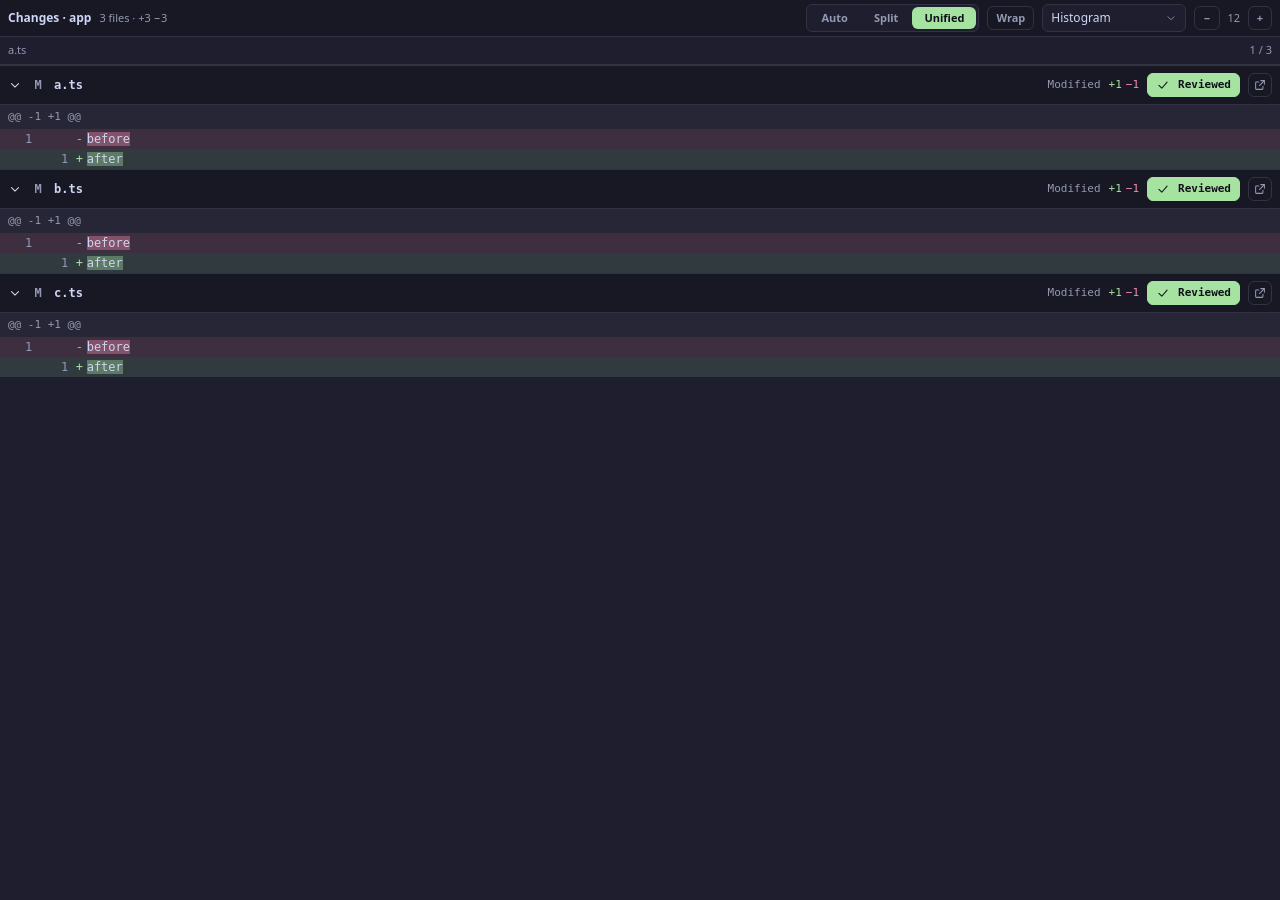
Test: Undo covers every write still inside its window › stops at the first conflict, leaves the older write alone and says how far it got
The width and height of the screenshot is (1280, 900).
Check: the list with test id "review-list" is shown, box [0,65,1279,377]
Click the 1st button with test id "review-file-reviewed" at (1194, 85), box [1147,73,1240,97]
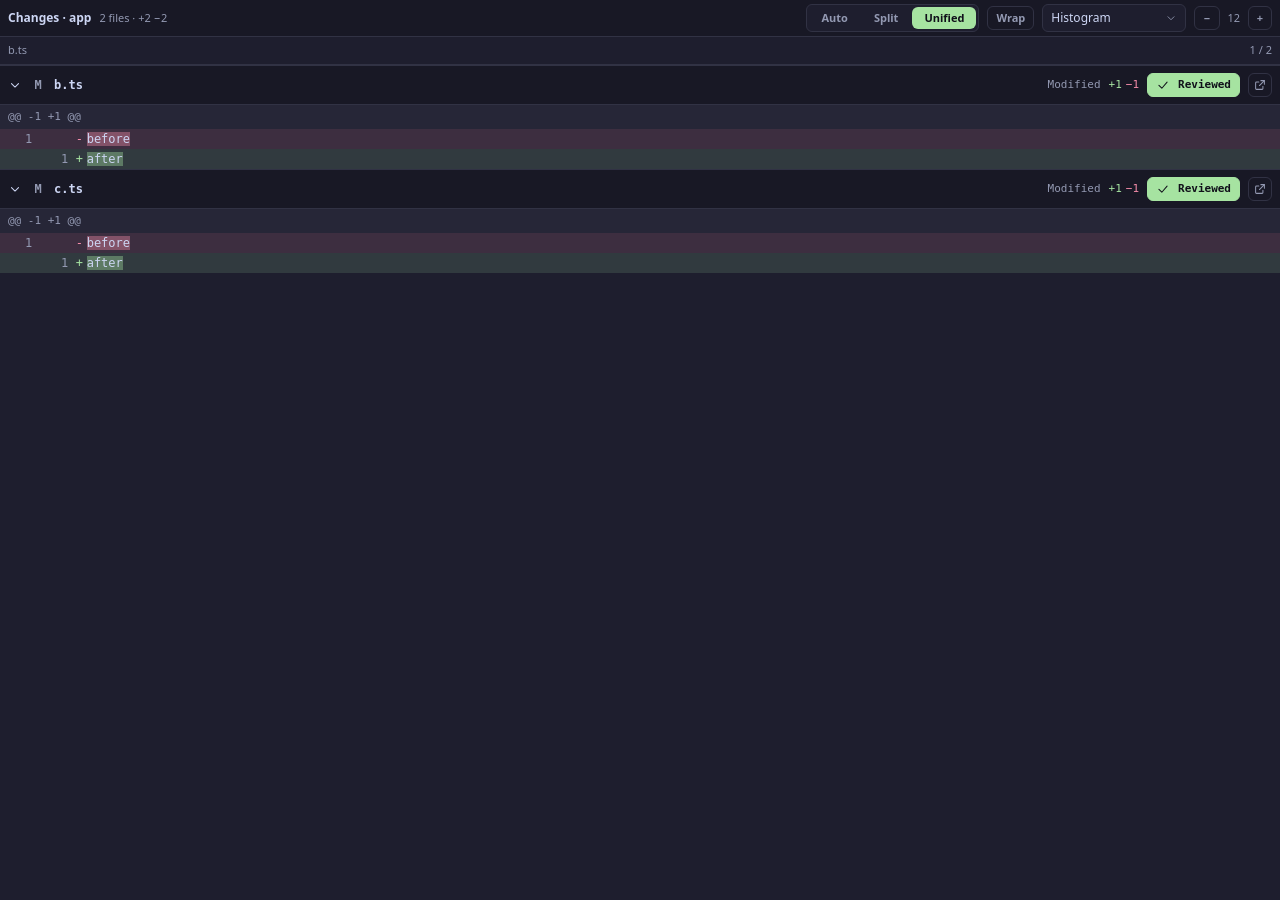
Click the 1st button with test id "review-file-reviewed" at (1194, 85), box [1147,73,1240,97]
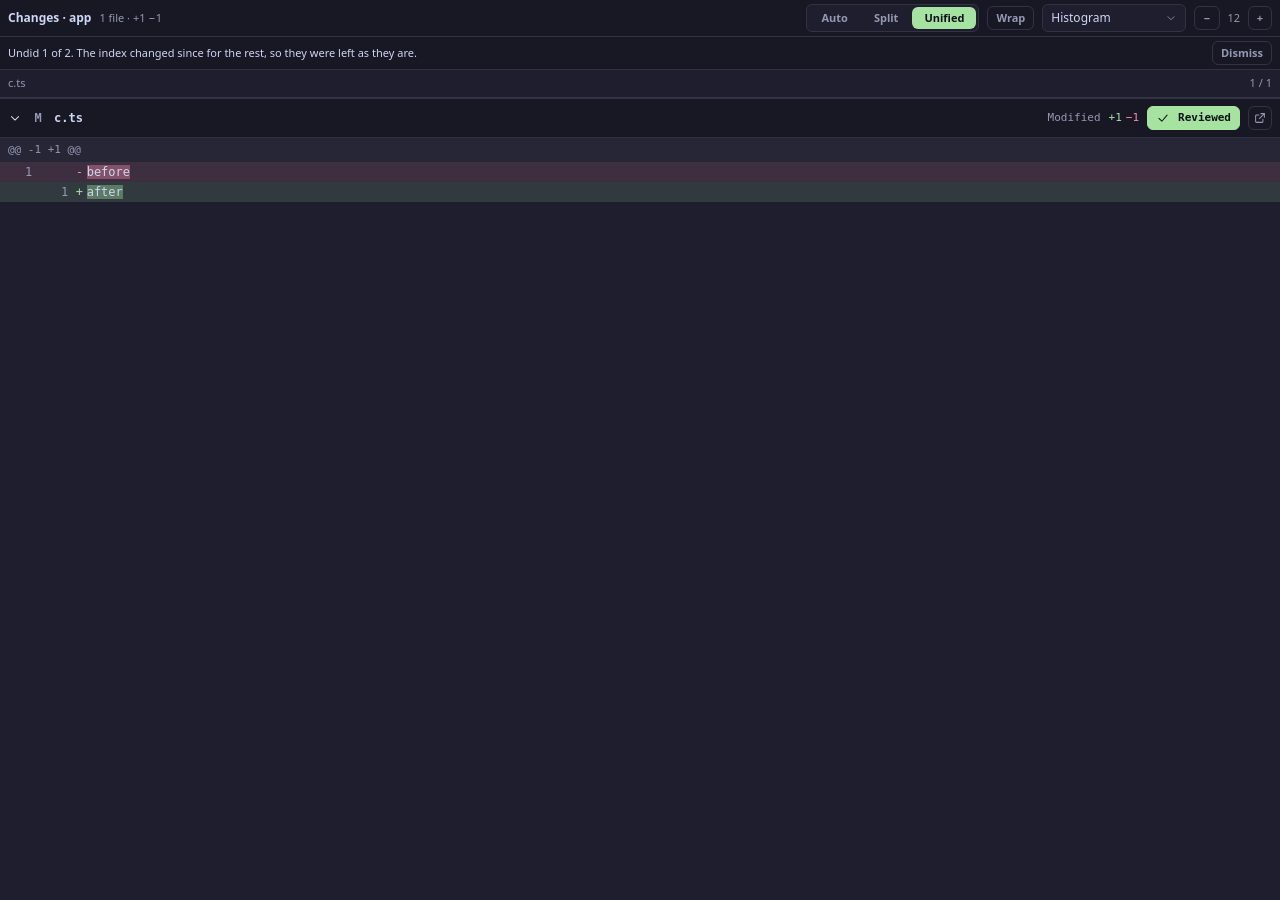
Check: the message with test id "review-notice" shows "Undid 1 of 2. The index changed since for the rest, so they were left as they are.", box [8,45,417,60]
